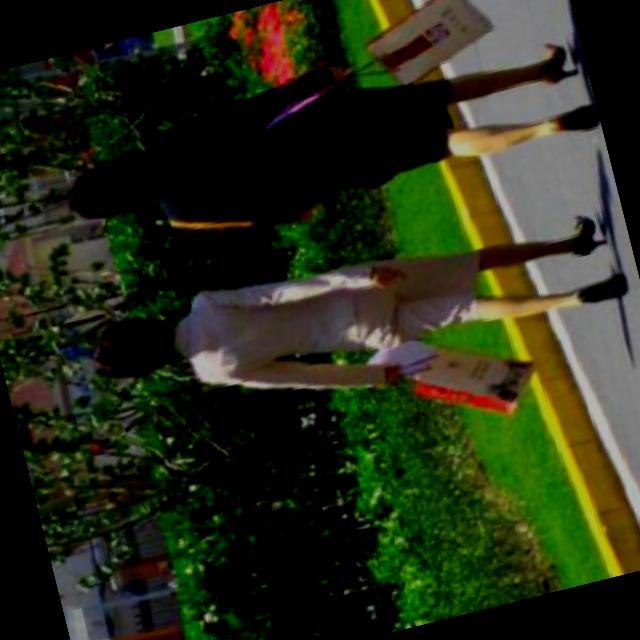Person: (49, 0, 607, 279), (86, 188, 640, 453)
